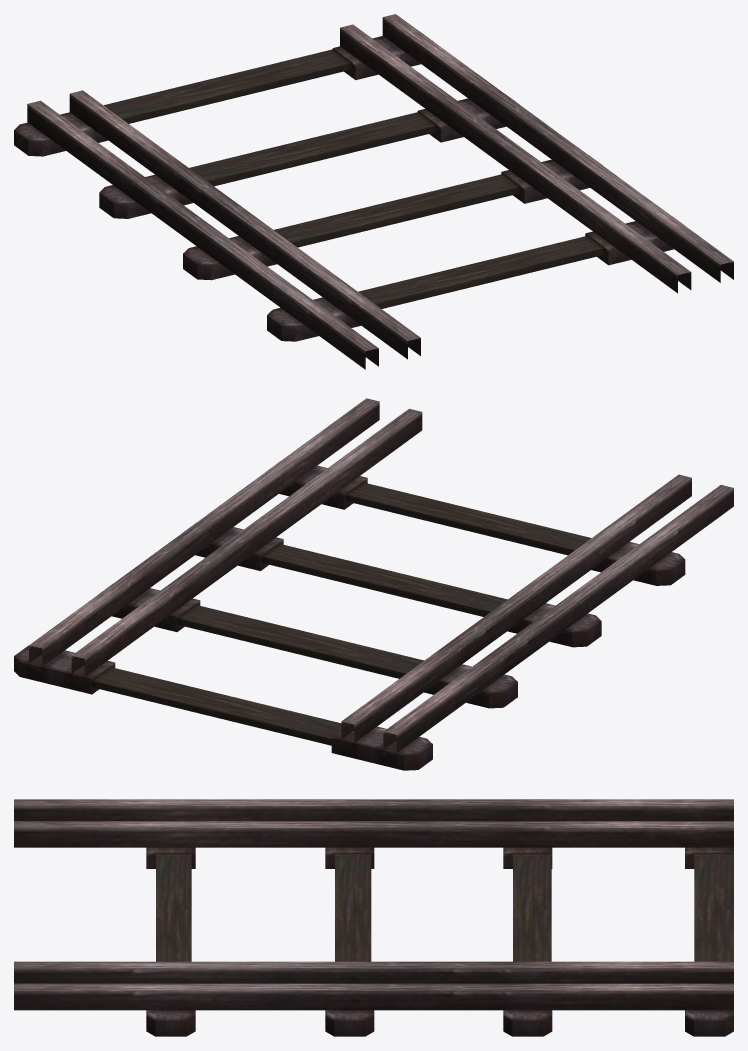
Rendered from yw_yiwangfeixu_tiegui01.FBX.
The picture shows the model from 3 angles, top to bottom: view 1: azimuth 30°, elevation 25°; view 2: azimuth 150°, elevation 25°; view 3: azimuth 270°, elevation 25°; orthographic projection. The views are drawn at different scales.
Visible parts, largest first — view 1: yw_yiwangfeixu_tiegui01; view 2: yw_yiwangfeixu_tiegui01; view 3: yw_yiwangfeixu_tiegui01.
Boxes of the visible parts, x1,y1,x2,y2 form: yw_yiwangfeixu_tiegui01: [14, 14, 733, 369]; yw_yiwangfeixu_tiegui01: [14, 398, 733, 770]; yw_yiwangfeixu_tiegui01: [14, 799, 733, 1036].
Bounding box in the file's own units: 401 × 32.05 × 579.
